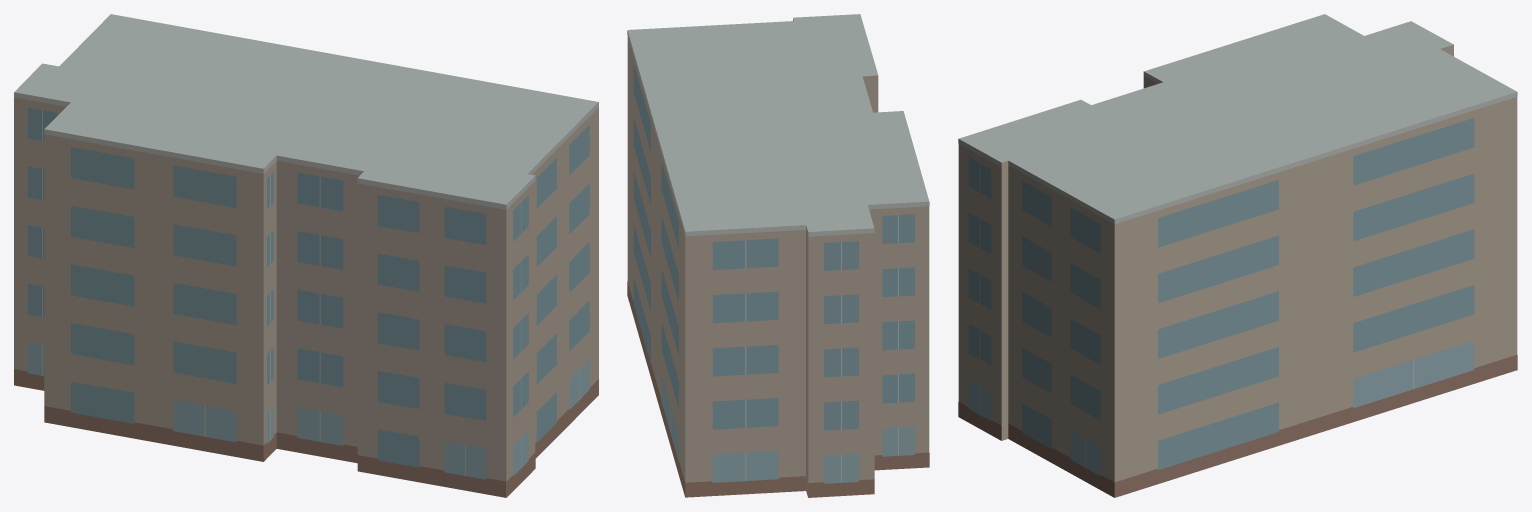
File: survey-upis-32922426.glb
3 views of the same model, side by side, from view 1: azimuth 30°, elevation 25°; view 2: azimuth 150°, elevation 25°; view 3: azimuth 270°, elevation 25° (orthographic). The views are drawn at different scales.
Parts seen in each view (by area): view 1: survey-upis-32922426.tmp; view 2: survey-upis-32922426.tmp; view 3: survey-upis-32922426.tmp.
Part boxes in pixels (bbox=[...]): survey-upis-32922426.tmp: bbox=[14, 14, 598, 497]; survey-upis-32922426.tmp: bbox=[627, 14, 929, 497]; survey-upis-32922426.tmp: bbox=[958, 14, 1517, 497].
Bounding box in the file's own units: 22.19 × 14 × 25.49.
